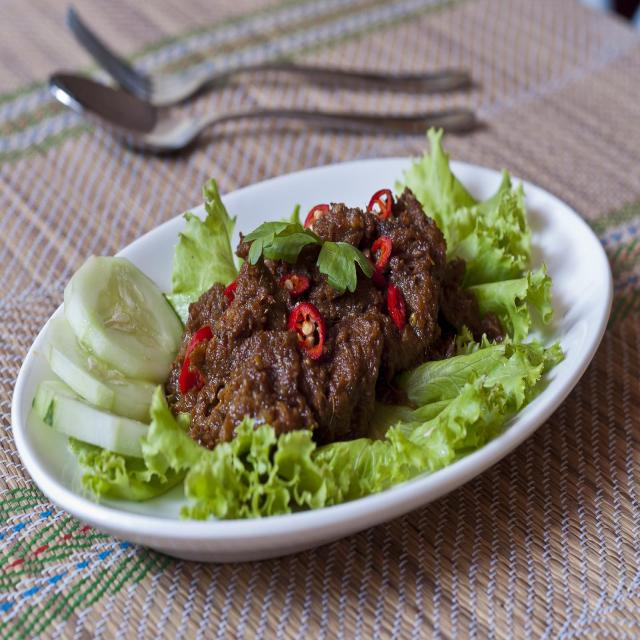Rendang: (160, 179, 472, 441)
